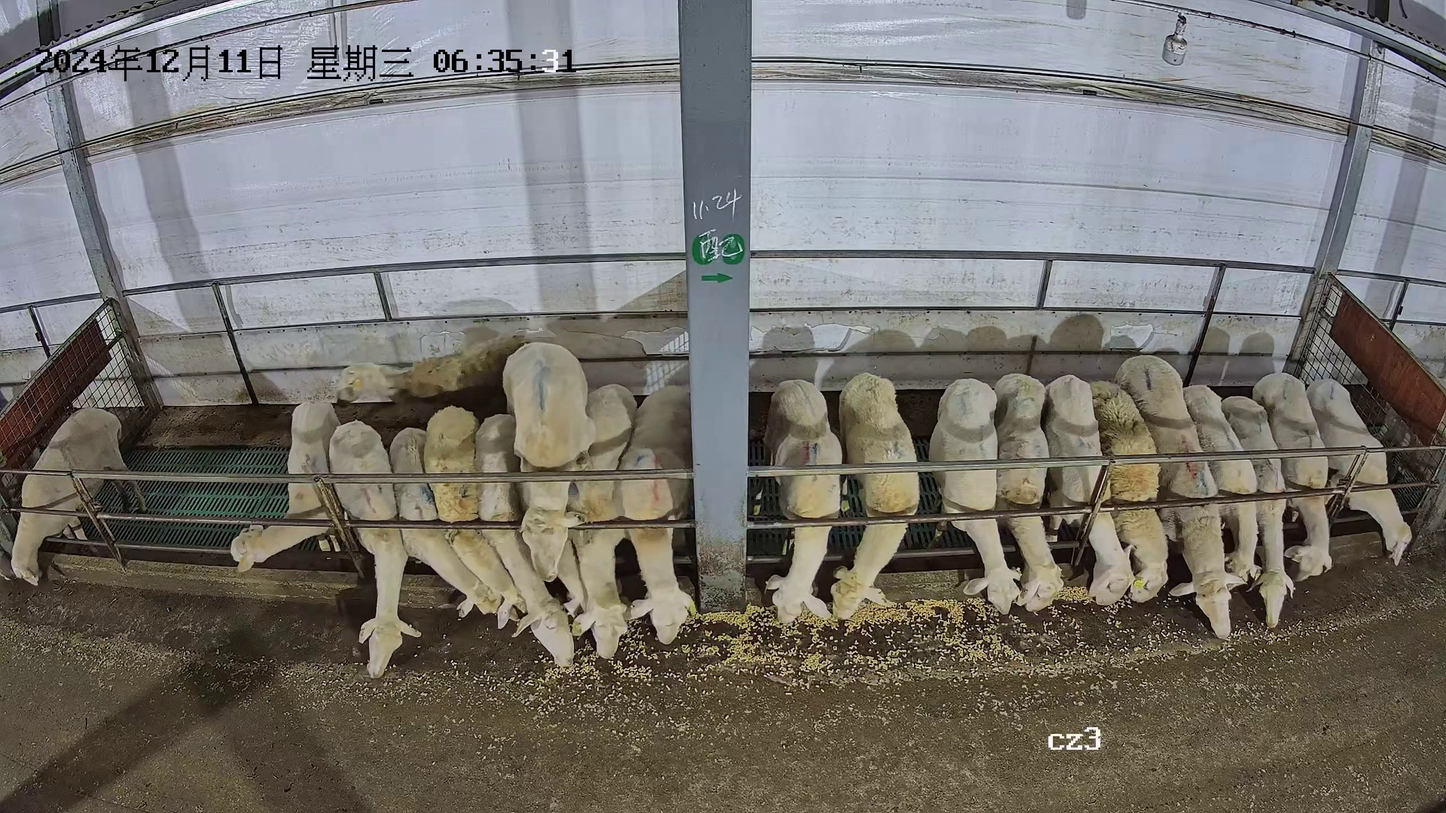Nmounting: (494, 338, 607, 655)
